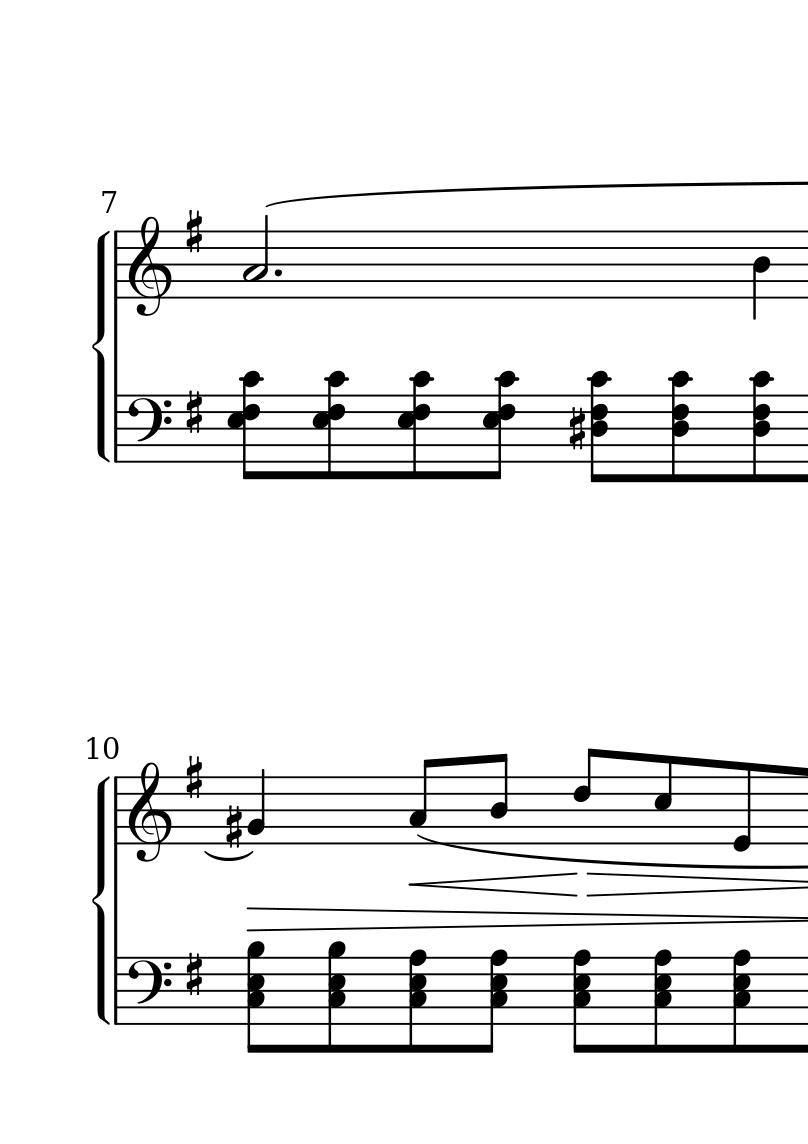0: (101, 731, 120, 764)
1: (84, 732, 100, 765)
2_3: (241, 214, 272, 300)
4_2: (246, 766, 268, 848)
4_4: (750, 229, 772, 322)
7: (100, 183, 119, 214)
8_0: (730, 760, 756, 859)
8_3: (408, 756, 437, 847)
8_4: (488, 753, 510, 847)
8_5: (652, 753, 676, 846)
8_6: (569, 746, 603, 846)
8_th: (225, 370, 267, 482), (477, 370, 514, 482), (665, 368, 700, 483), (313, 370, 348, 480), (398, 371, 433, 481), (589, 367, 618, 484), (750, 363, 778, 483), (479, 946, 510, 1054), (245, 938, 271, 1055), (326, 939, 352, 1054), (730, 948, 755, 1053), (571, 946, 594, 1054), (652, 947, 674, 1051), (409, 949, 430, 1053)
Brace: (91, 774, 111, 1025), (91, 229, 111, 463)
Crescendo_hairpin: (407, 871, 579, 899)
Diminuendo_hairpin: (247, 904, 808, 933), (584, 870, 808, 897)
Fclef: (127, 392, 175, 466), (125, 955, 173, 1026)
Gclef: (126, 215, 178, 318), (125, 758, 175, 863)
Sharp: (181, 385, 213, 442), (564, 400, 589, 458), (222, 801, 247, 851), (181, 950, 205, 998), (184, 207, 205, 256), (183, 754, 206, 798)
Single_barline: (109, 396, 128, 461), (109, 958, 127, 1024), (110, 777, 126, 846), (111, 231, 126, 301)
Slur: (204, 849, 256, 862)
dot: (272, 266, 284, 279)
